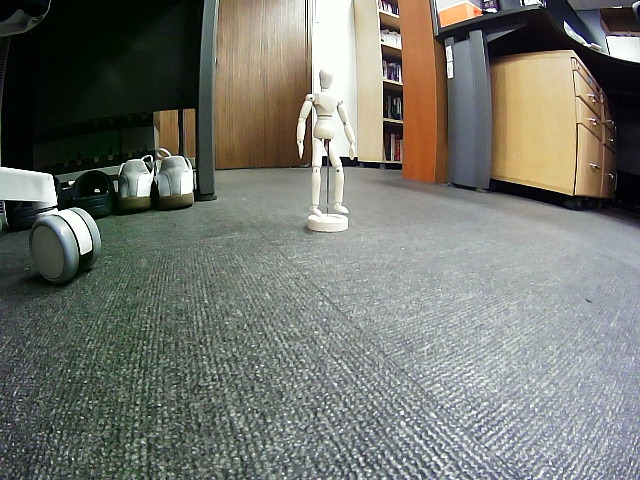person: (297, 69, 356, 217)
